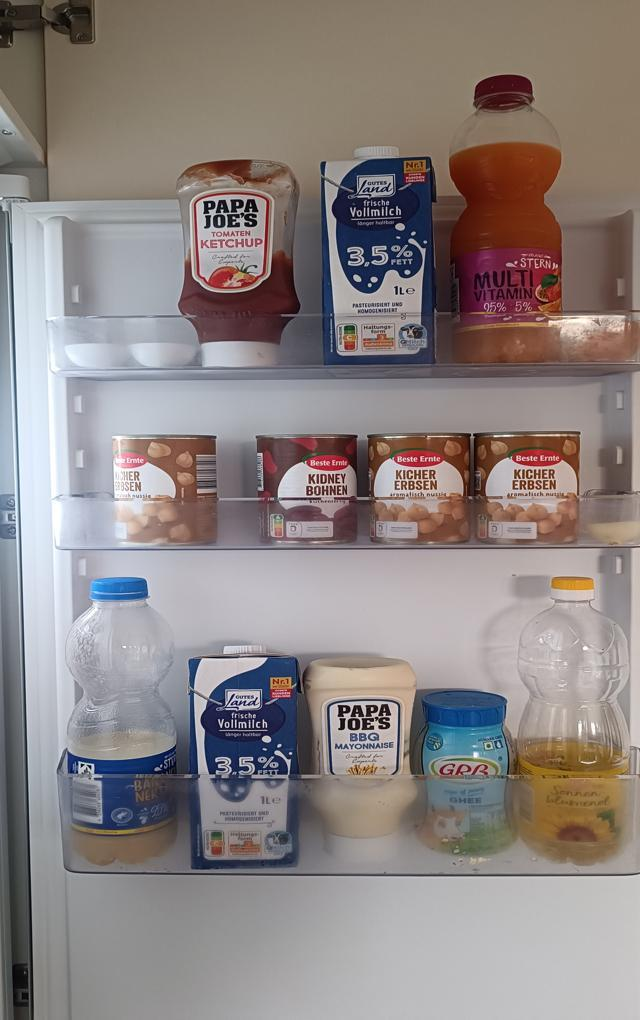bananajuice: (69, 578, 180, 867)
chickpeas: (472, 431, 583, 545), (112, 434, 219, 544), (368, 434, 471, 545)
ghee: (413, 691, 517, 862)
kidneybeans: (255, 432, 360, 542)
mayoniasie: (304, 657, 421, 865)
milk: (322, 146, 438, 369), (187, 642, 300, 867)
oil: (514, 574, 636, 869)
orangejuice: (449, 73, 566, 371)
tomatoketchup: (175, 156, 301, 374)
